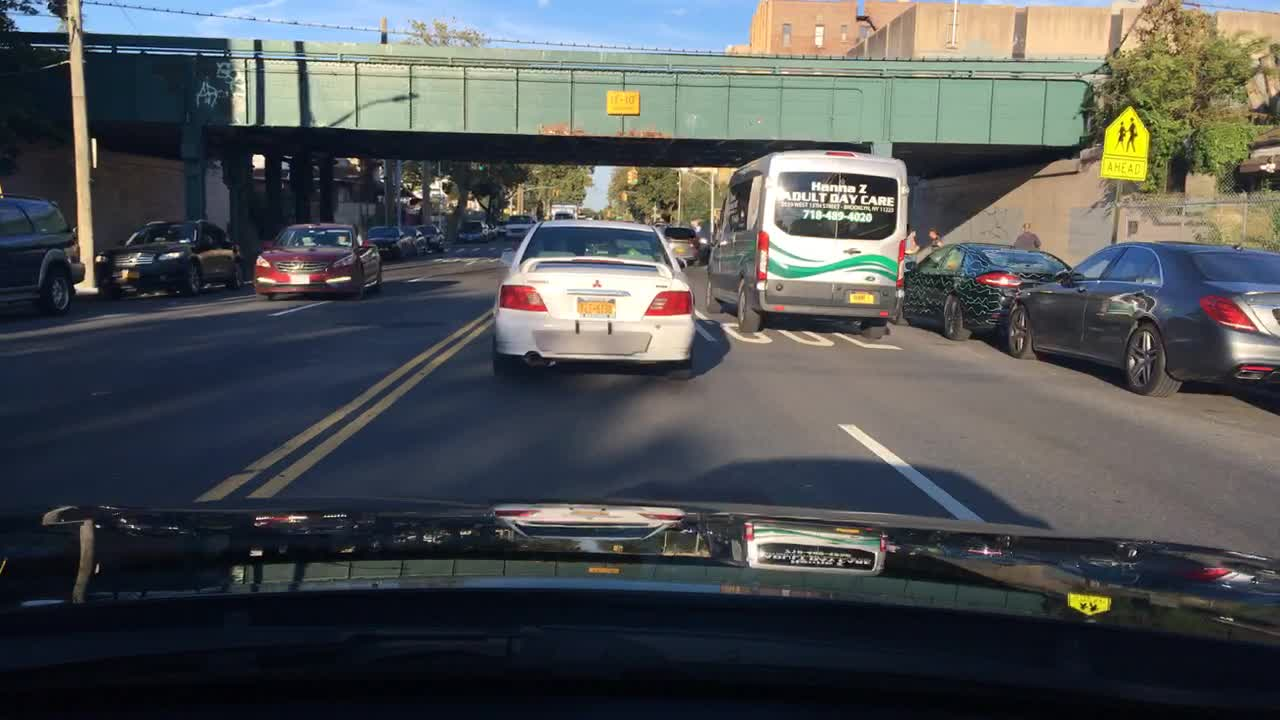bus: (705, 148, 912, 339)
car: (1004, 239, 1279, 399), (490, 218, 699, 380), (901, 241, 1070, 345), (93, 218, 246, 300), (0, 191, 87, 322), (252, 222, 383, 304), (364, 222, 418, 259), (662, 222, 701, 266), (455, 216, 492, 244), (414, 222, 445, 253), (399, 222, 429, 253), (503, 213, 536, 238)
person: (903, 225, 919, 298), (1013, 221, 1040, 251), (924, 227, 944, 254)
traffic sign: (1102, 105, 1151, 180), (604, 86, 639, 115)
truck: (545, 201, 578, 219)
